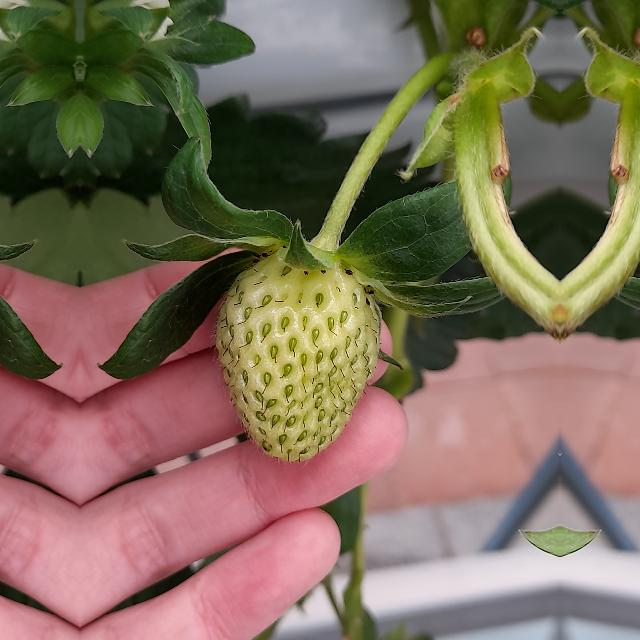Health_25: (215, 251, 382, 461)
